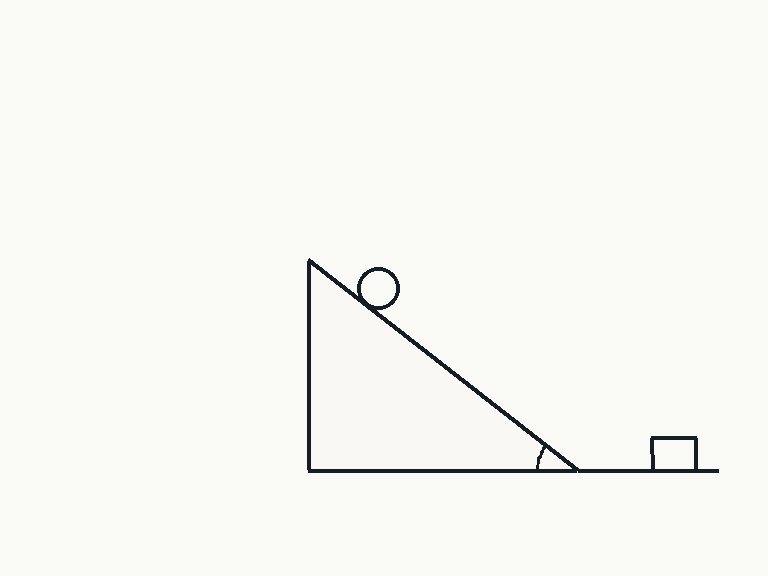ball: (355, 265, 401, 311)
block: (650, 436, 698, 472)
ramp: (306, 258, 579, 472)
